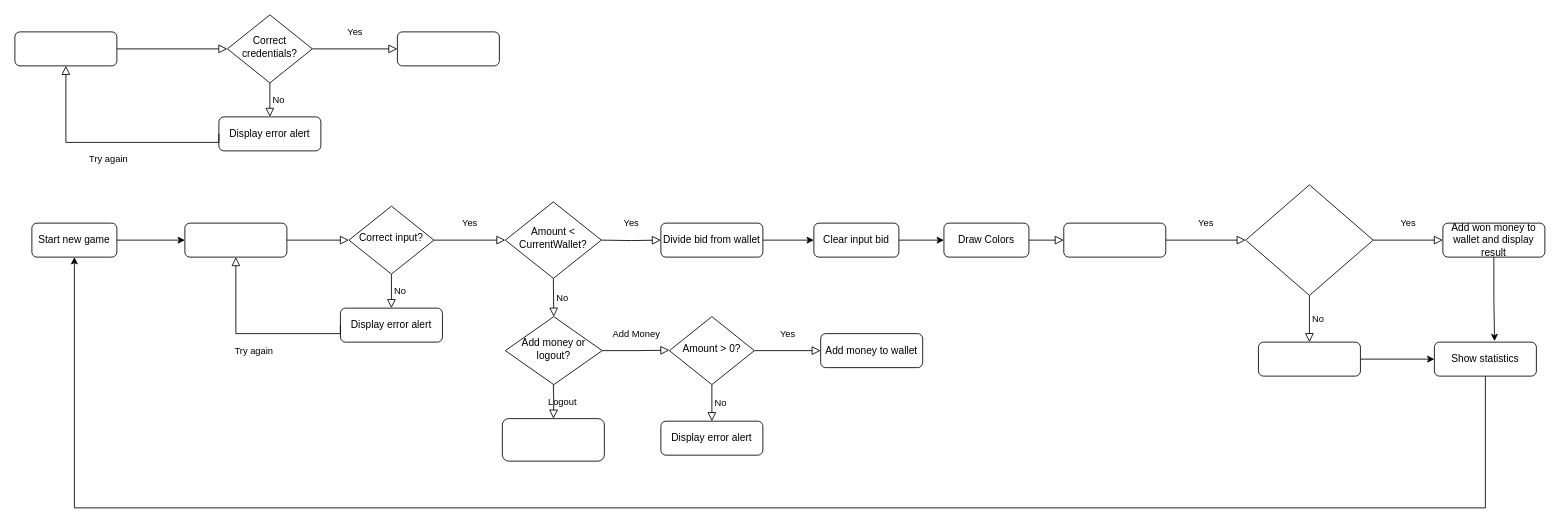
This 1560x530 diagram has some shape labels left out. The shapes that lost their labels are listed below. From the top down, each one's centre as x and y in pixels, then its label:
At pixel 65 48: "User tries to log in".
At pixel 448 48: "Display Game Interface".
At pixel 235 239: "User input bid amount".
At pixel 1114 239: "Display drawed colors".
At pixel 1309 239: "Check win - 3 same colors or 3 different colors?".
At pixel 1309 358: "Display result".
At pixel 553 439: "Hide Game Interface and allow to log in again".
